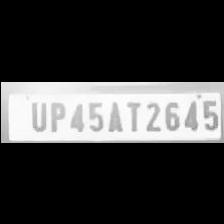2: (140, 97, 162, 131)
4: (65, 98, 84, 132), (182, 96, 200, 130)
5: (84, 97, 104, 132), (199, 96, 219, 130)
6: (161, 97, 181, 131)
A: (102, 97, 124, 132)
P: (44, 98, 64, 132)
T: (122, 97, 142, 132)
U: (24, 97, 46, 131)
